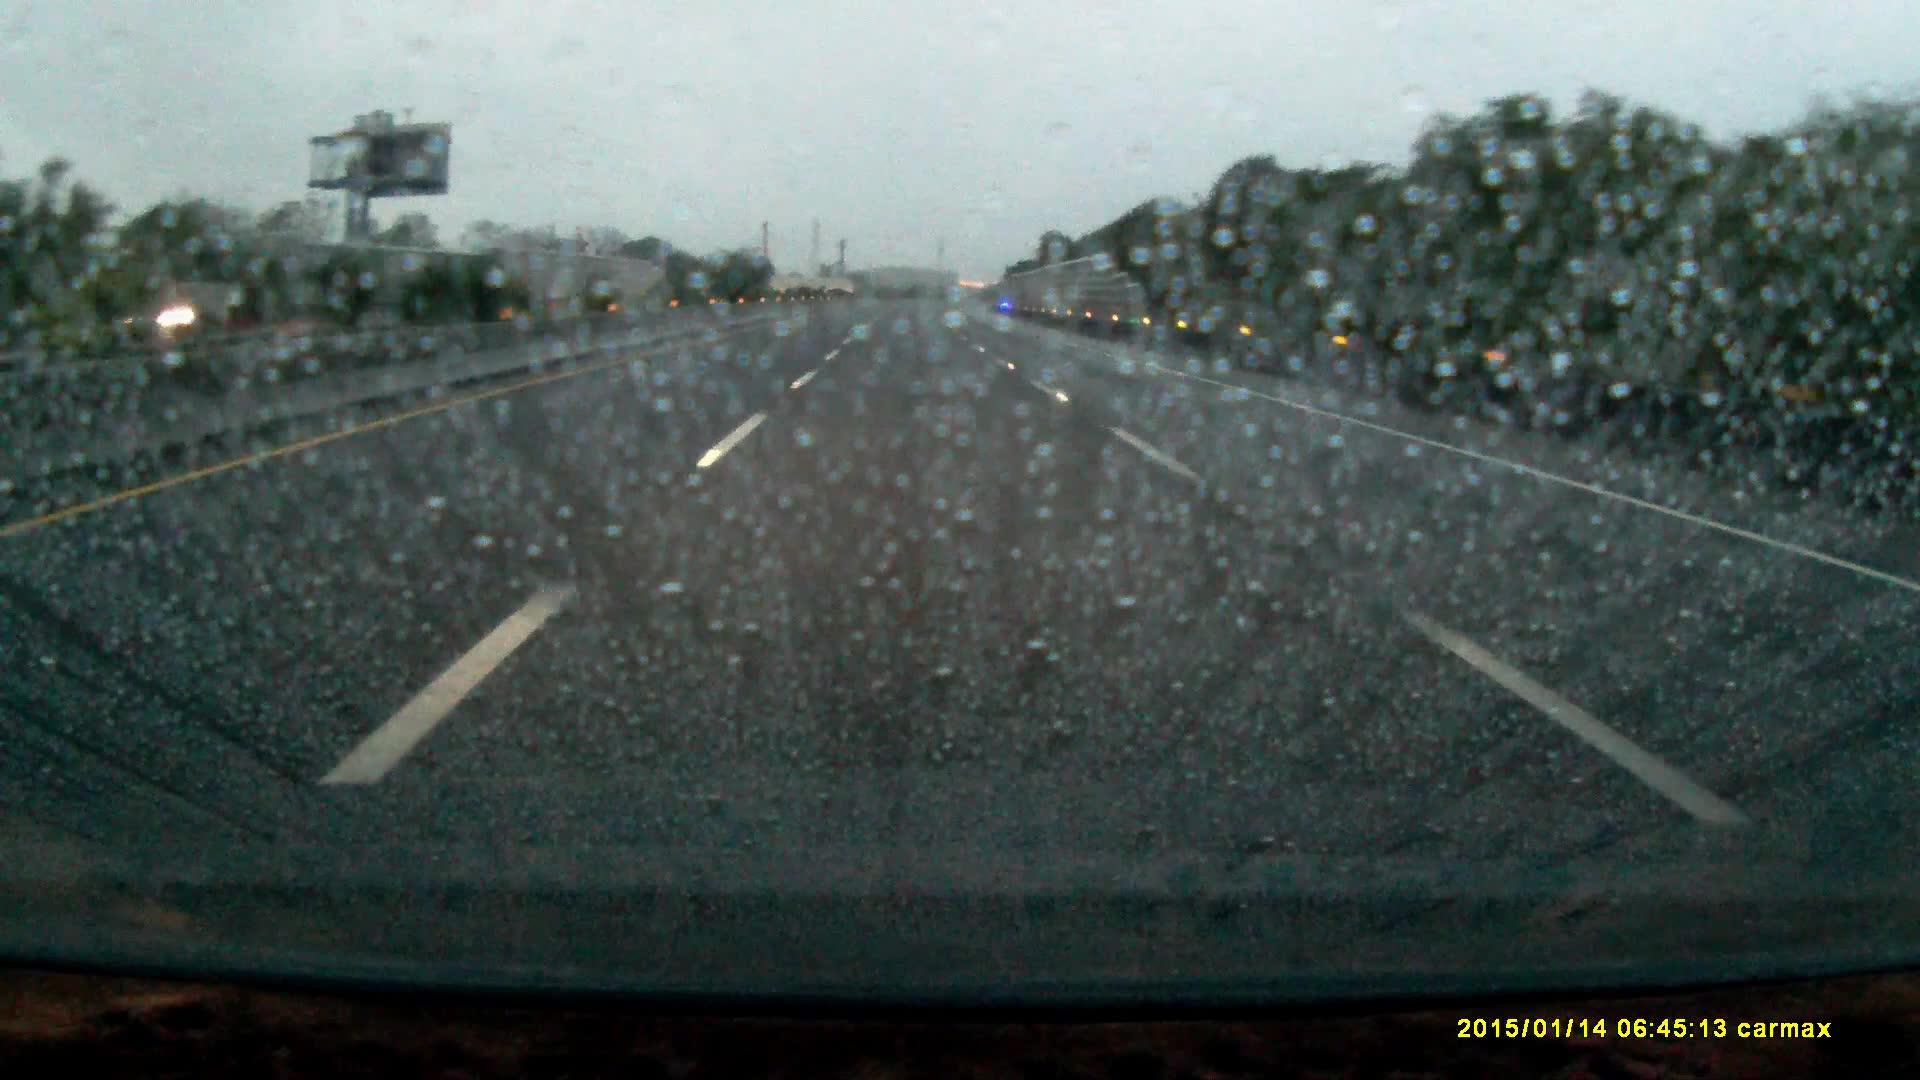vehicle: (105, 280, 247, 338)
